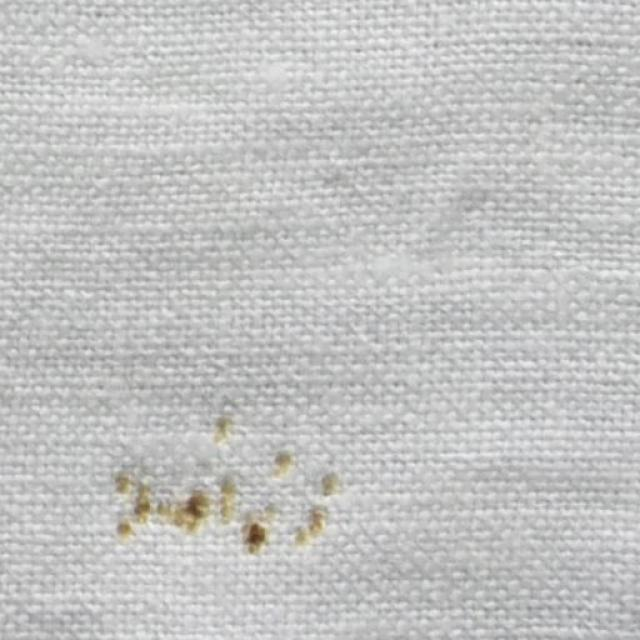Stain: (102, 420, 356, 549)
